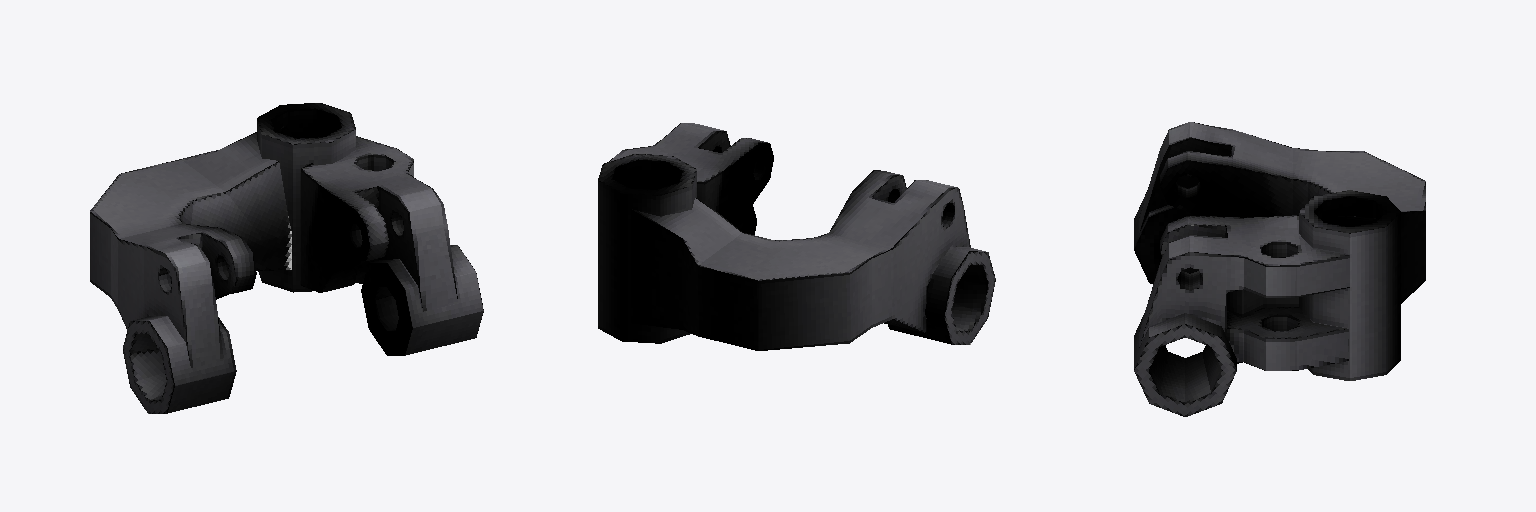
3 renders of one model, left to right at view 1: azimuth 30°, elevation 25°; view 2: azimuth 150°, elevation 25°; view 3: azimuth 270°, elevation 25°, orthographic.
Parts seen in each view (by area): view 1: l_lglut; view 2: l_lglut; view 3: l_lglut.
Part boxes in pixels (x1,y1,x2,y2): l_lglut: (90,103,483,413); l_lglut: (598,123,995,350); l_lglut: (1134,122,1425,416).
Bounding box in the file's own units: 0.1439 × 0.0762 × 0.1175.
1 materials, 1 textured.